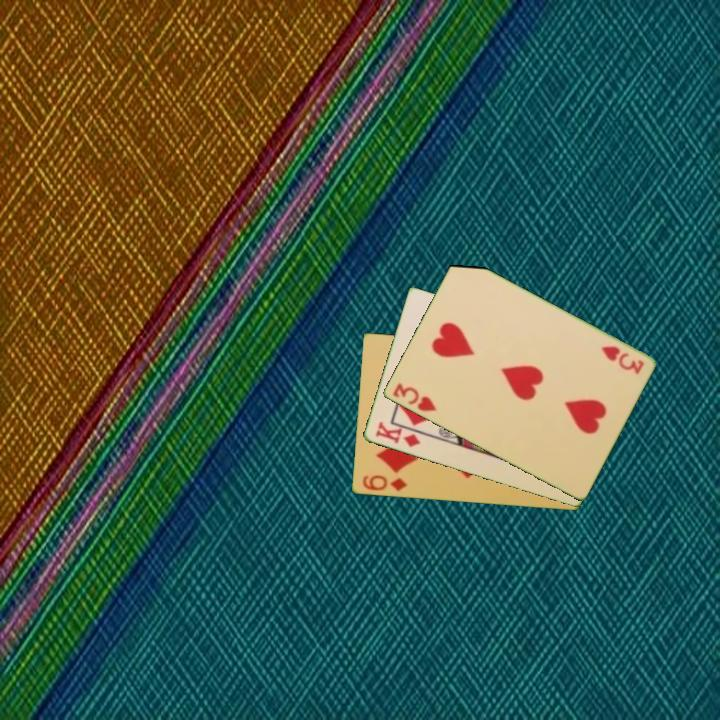3h: (389, 380, 439, 415), (597, 342, 647, 377)
6d: (359, 472, 410, 494)
Kd: (372, 418, 423, 450)
